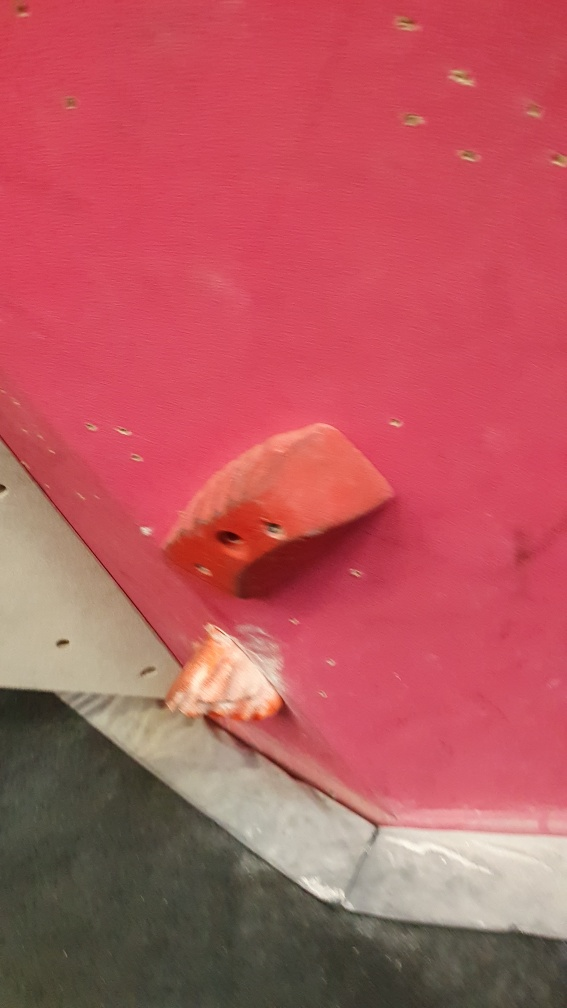Jug: (164, 628, 290, 730)
